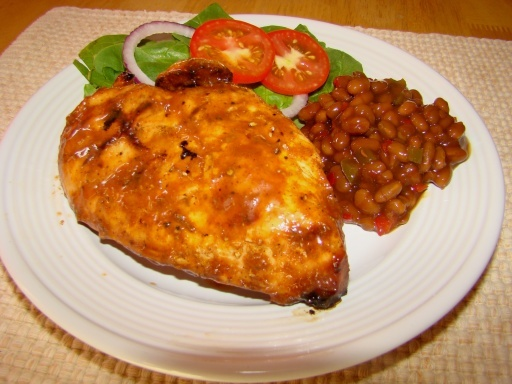background: (46, 1, 376, 185)
